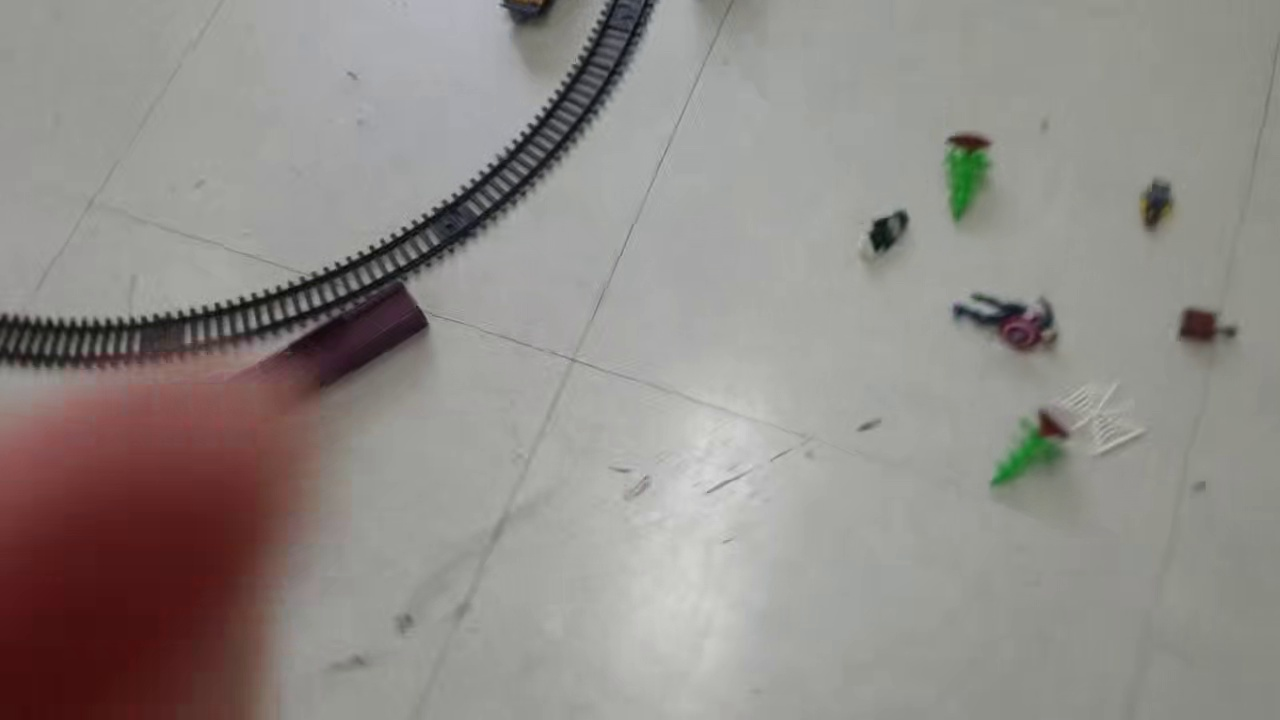box: (1174, 306, 1249, 353)
people: (952, 281, 1066, 356), (844, 207, 917, 263), (1131, 172, 1182, 233)
tree: (981, 410, 1071, 496), (933, 127, 996, 232)
web: (1044, 374, 1150, 458)
